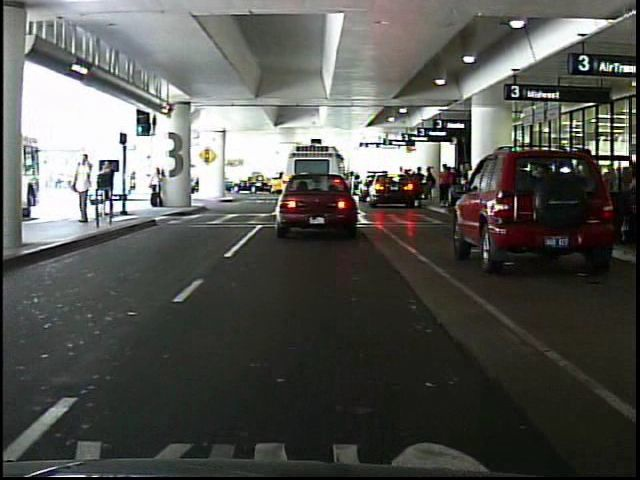person: (71, 151, 98, 229), (99, 157, 118, 221), (149, 166, 169, 211), (437, 163, 453, 209), (192, 164, 208, 203)
